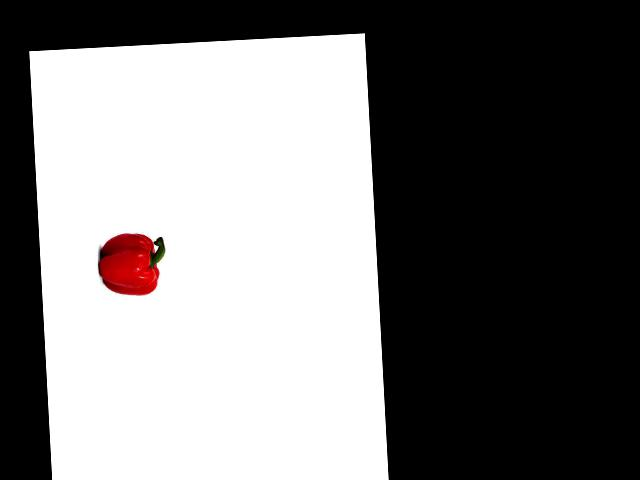bell_pepper: (97, 229, 168, 301)
